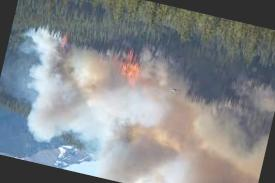fire: (116, 49, 146, 85)
smoke: (2, 15, 275, 183)
